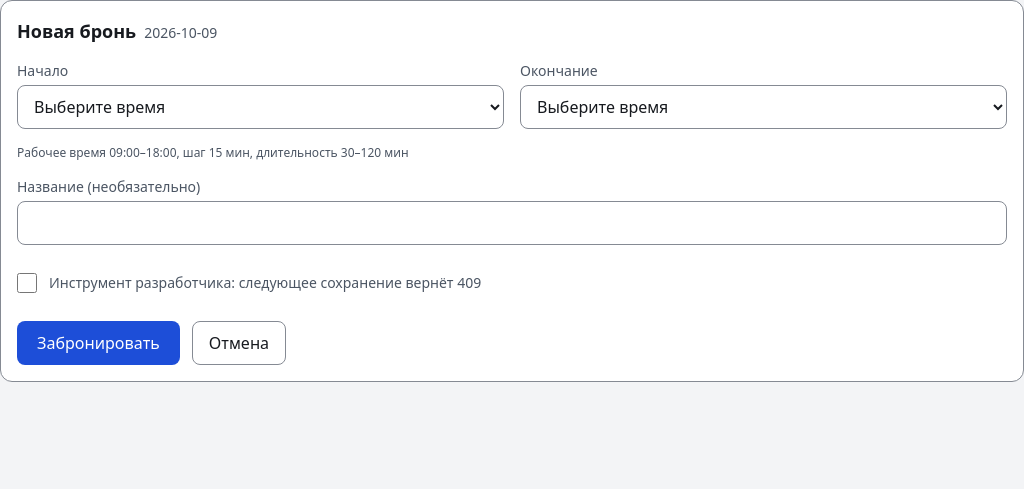
BookingForm server errors › 409 keeps the form open and values, shows focused banner, reloads
Select "10:00" in the dropdown labelled "Начало": (260, 107) left=17, top=85, right=504, bottom=129
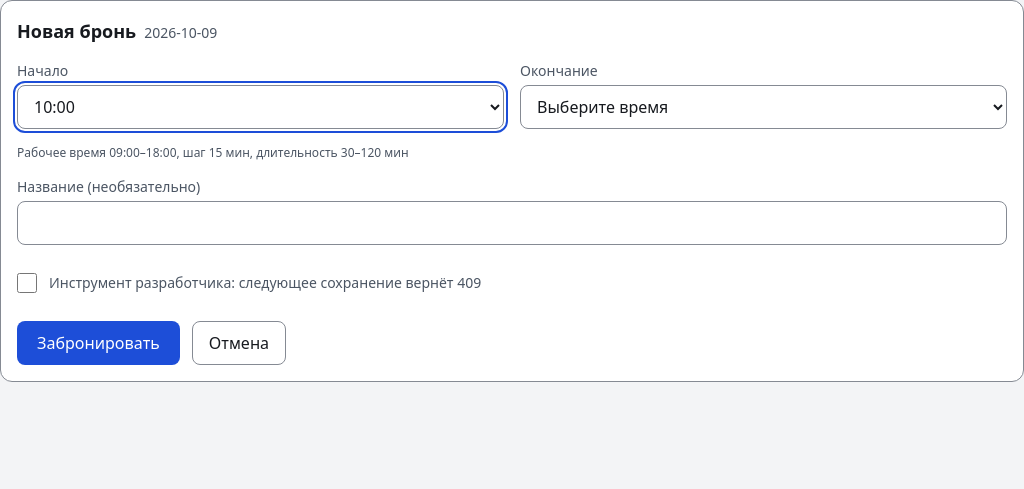
Select "11:00" in the dropdown labelled "Окончание": (764, 107) left=520, top=85, right=1007, bottom=129
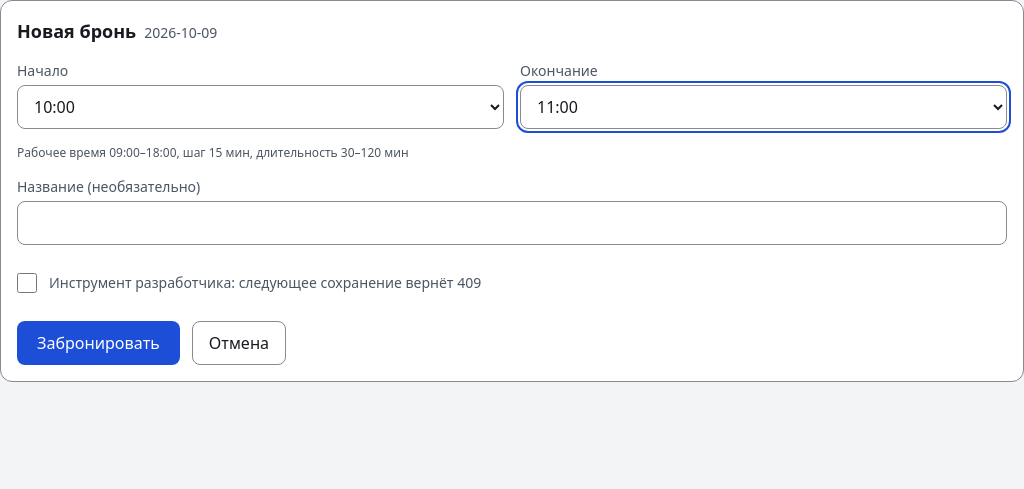
In the field labelled "Название (необязательно)": (512, 223) left=17, top=201, right=1007, bottom=245, type "Mine"
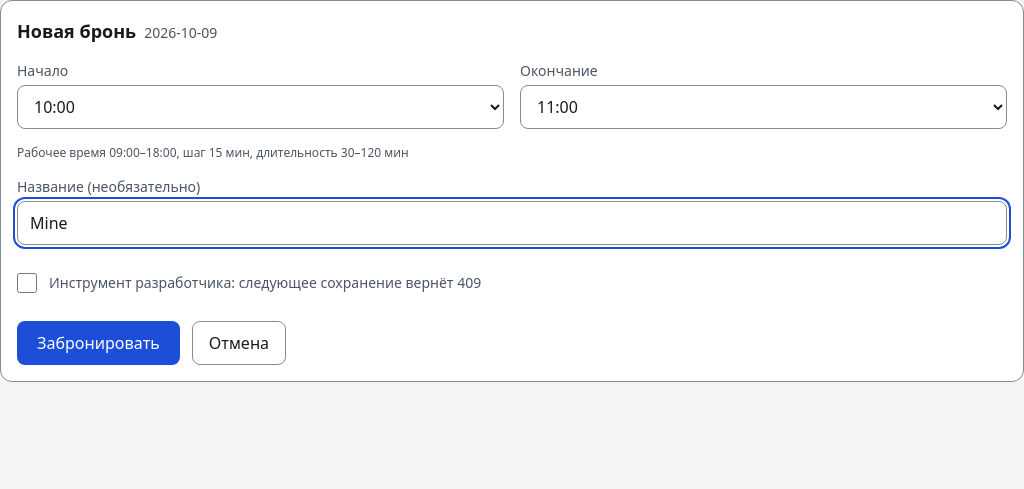
Click the button "Забронировать": (98, 343) left=17, top=321, right=180, bottom=365
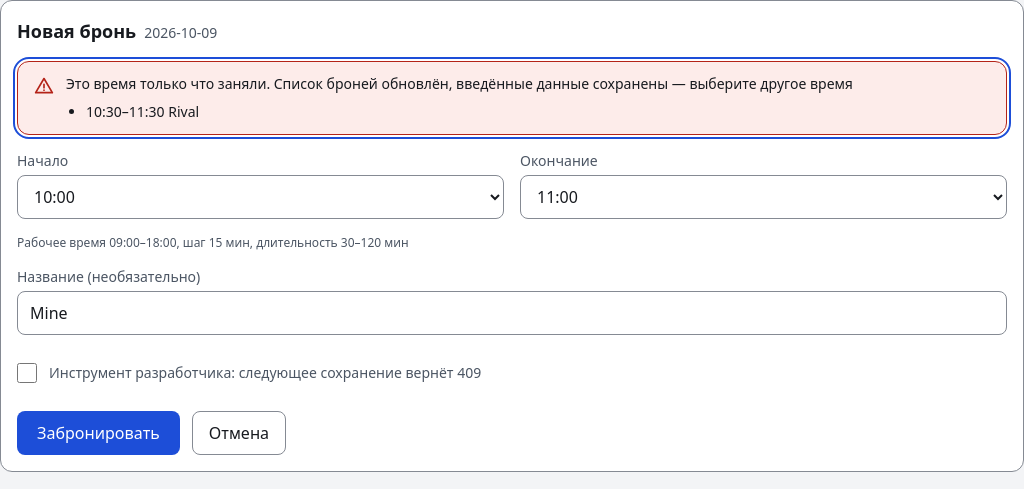
Now the message shows "Это время только что заняли. Список броней обновлён, введённые данные сохранены — выберите другое время", box left=66, top=74, right=853, bottom=93
Now the message shows "10:30", box left=86, top=102, right=199, bottom=121
Now the message shows "11:30", box left=86, top=102, right=199, bottom=121
